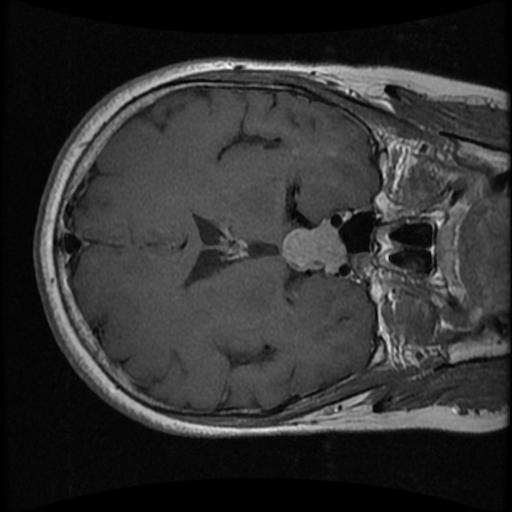pituitary tumour: (281, 222, 346, 273)
